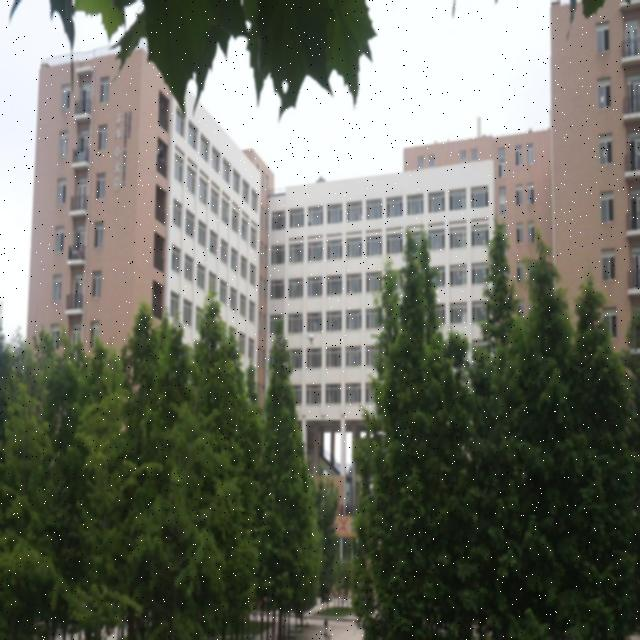UAV: (302, 332, 318, 347)
